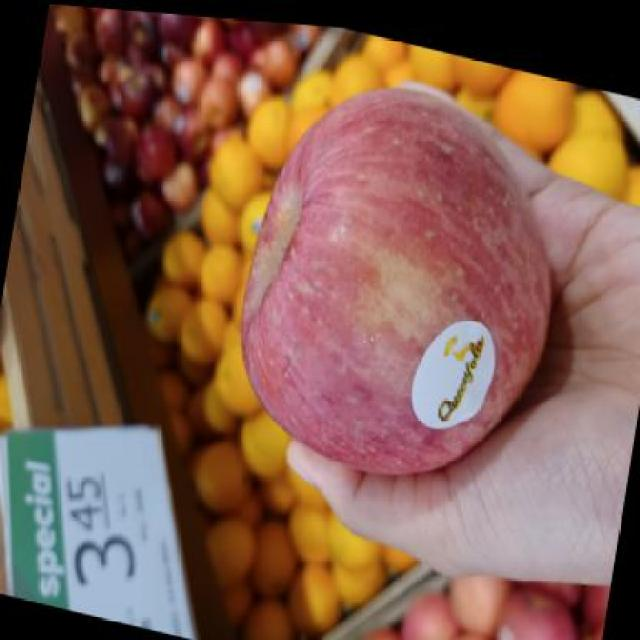Fresh Apple: (249, 106, 571, 488)
